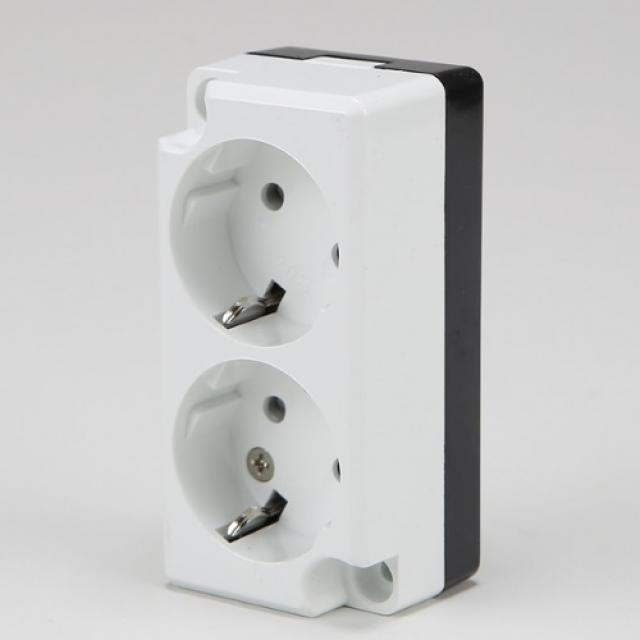typeb: (60, 25, 501, 640)
